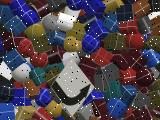Left: (50, 57, 94, 116)
